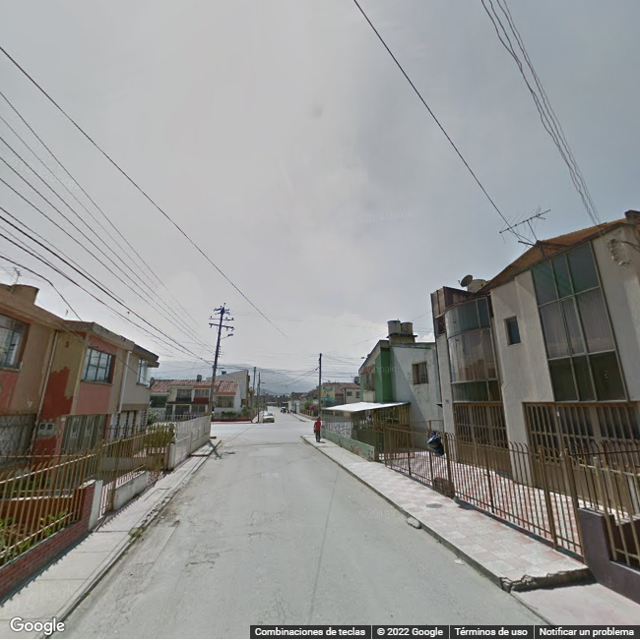D00: (425, 579, 470, 623)
D20: (255, 589, 309, 625)
D40: (177, 554, 226, 573)
